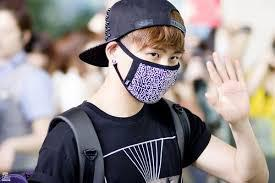OK: (118, 37, 184, 103)
